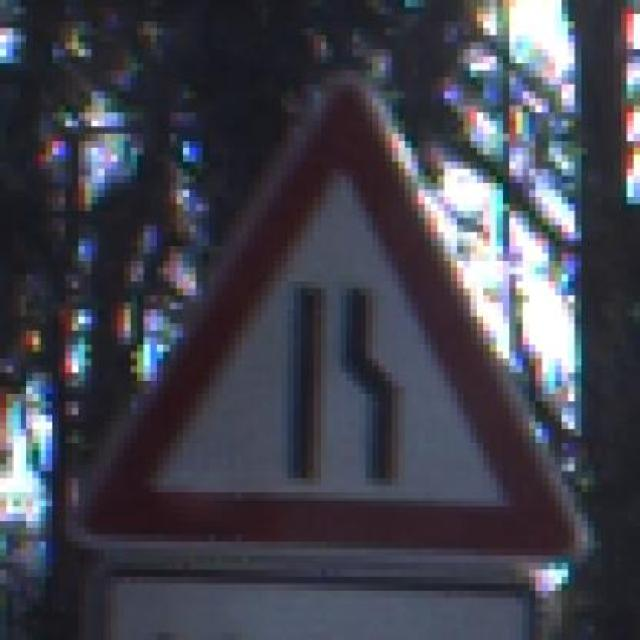-Road narrows on right: (51, 56, 594, 584)
